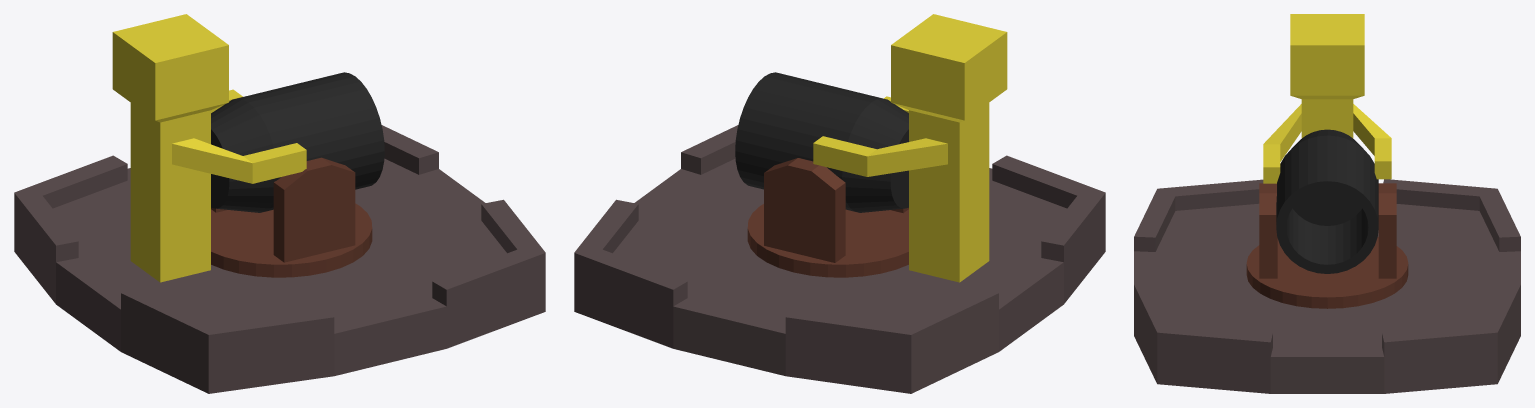
File: CannonTower.fbx
3 renders of one model, left to right at view 1: azimuth 30°, elevation 25°; view 2: azimuth 150°, elevation 25°; view 3: azimuth 270°, elevation 25°, orthographic. The views are drawn at different scales.
Parts seen in each view (by area): view 1: Cannon Tower, Cannon; view 2: Cannon Tower, Cannon; view 3: Cannon Tower, Cannon.
Boxes of the visible parts, left/top/right/bottom form: Cannon Tower: left=14, top=125, right=545, bottom=393; Cannon: left=112, top=14, right=384, bottom=282; Cannon Tower: left=574, top=125, right=1105, bottom=393; Cannon: left=735, top=14, right=1007, bottom=282; Cannon Tower: left=1134, top=179, right=1520, bottom=393; Cannon: left=1246, top=14, right=1408, bottom=308.
Size of the model in its own units: 335 by 225 by 335.
